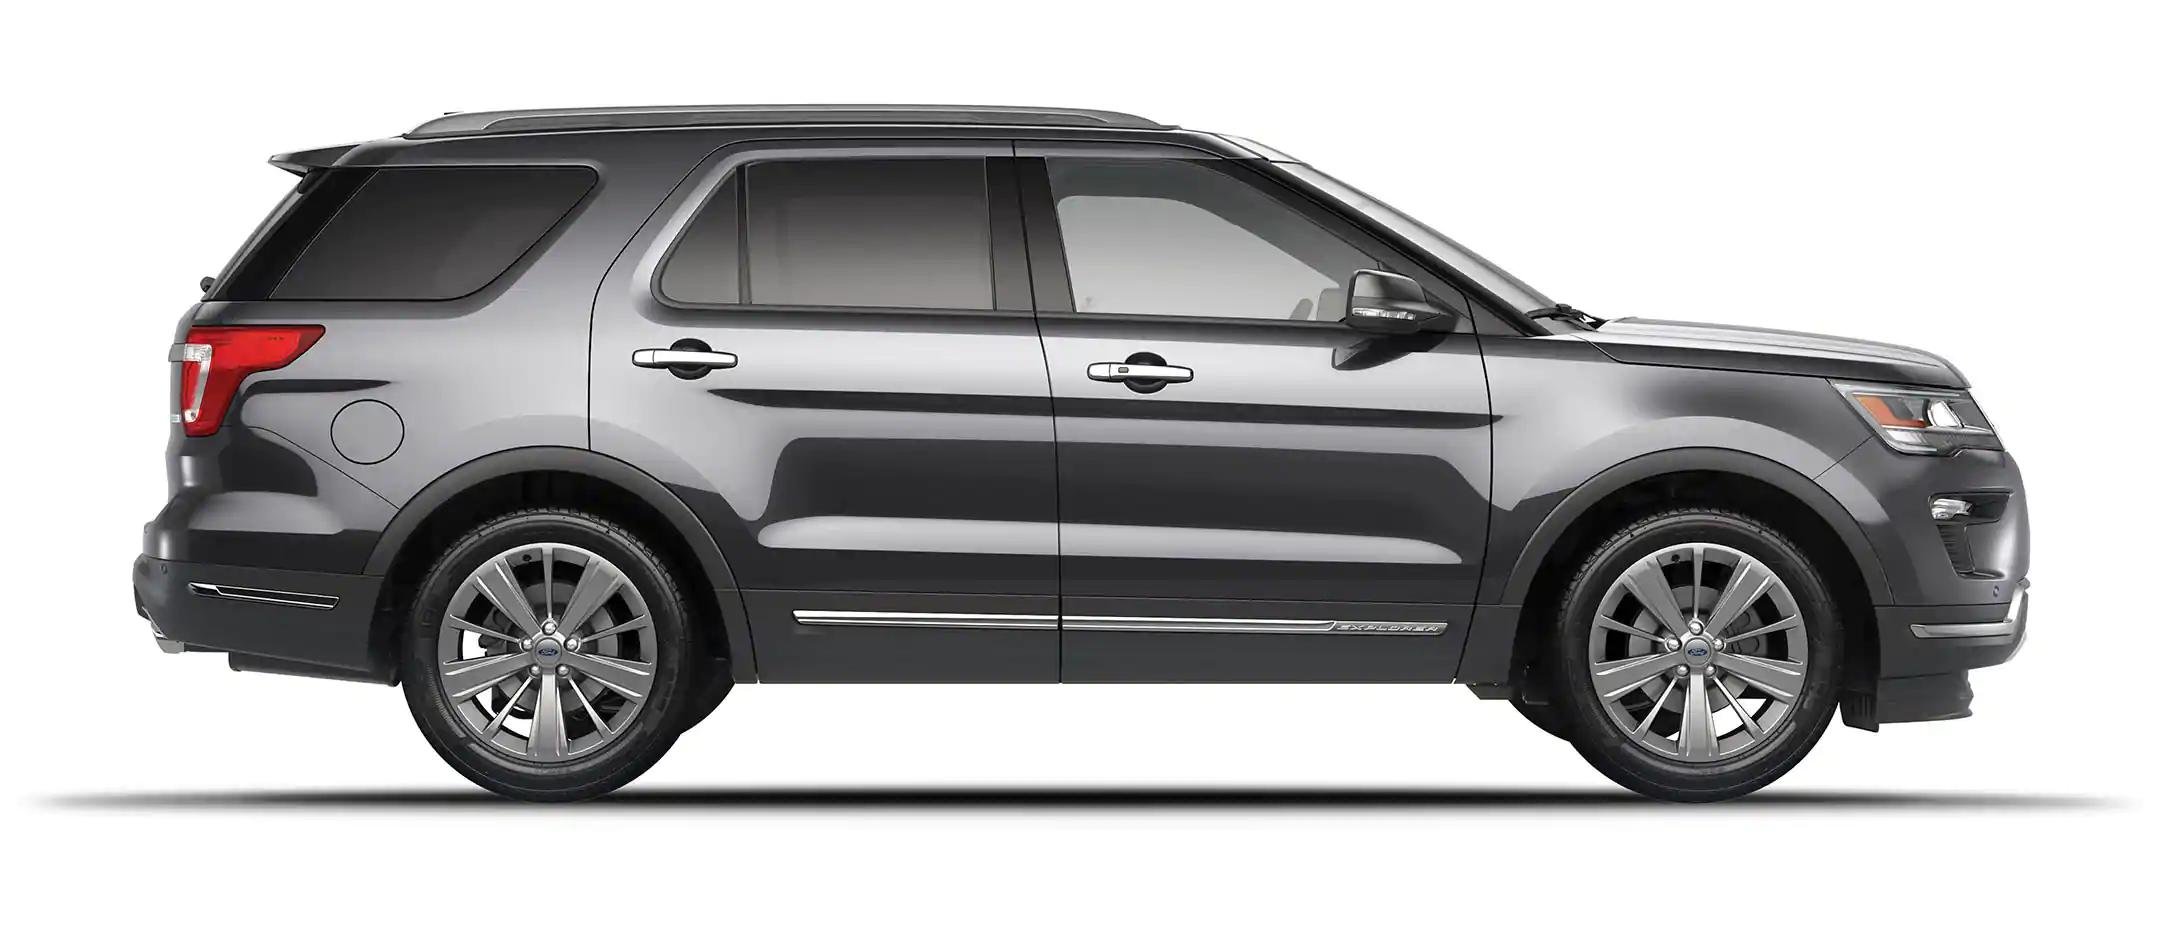Ford Explorer: (127, 88, 2037, 823)
